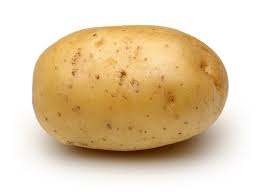potato: (26, 19, 232, 150)
